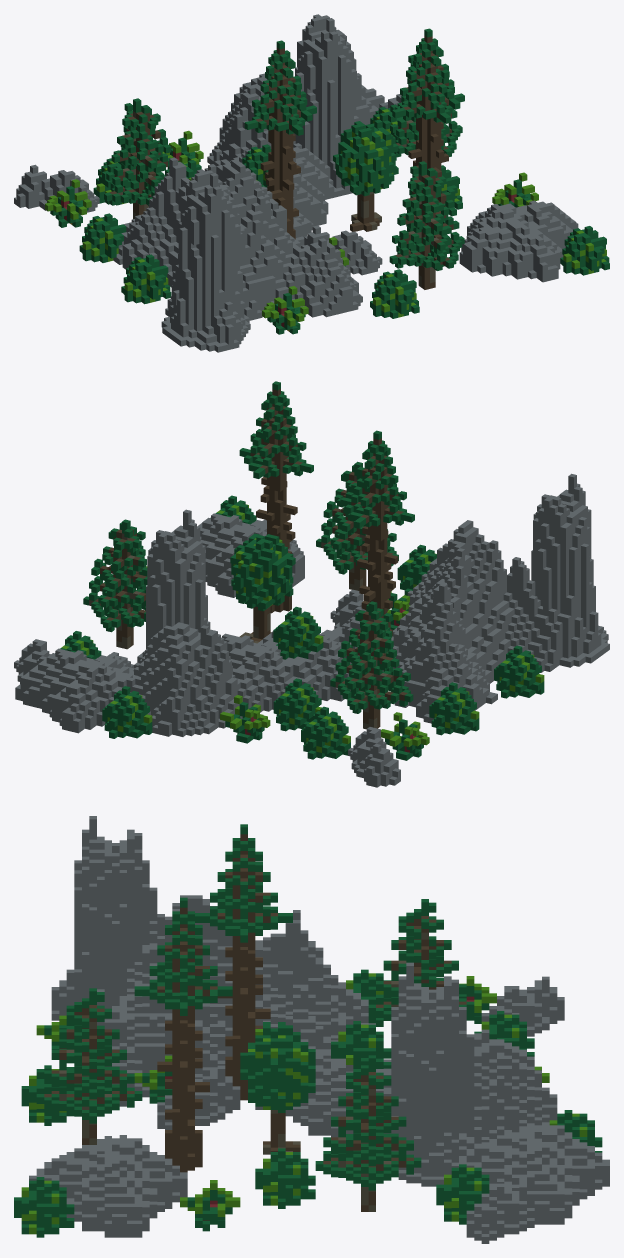
The model's file is big_rocks_1_overtile.obj.
3 renders of one model, top to bottom at view 1: azimuth 30°, elevation 25°; view 2: azimuth 150°, elevation 25°; view 3: azimuth 270°, elevation 25°, orthographic. The views are drawn at different scales.
Size of the model in its own units: 7.8 by 3.9 by 7.9.
Materials: 1 (1 with a texture image).
